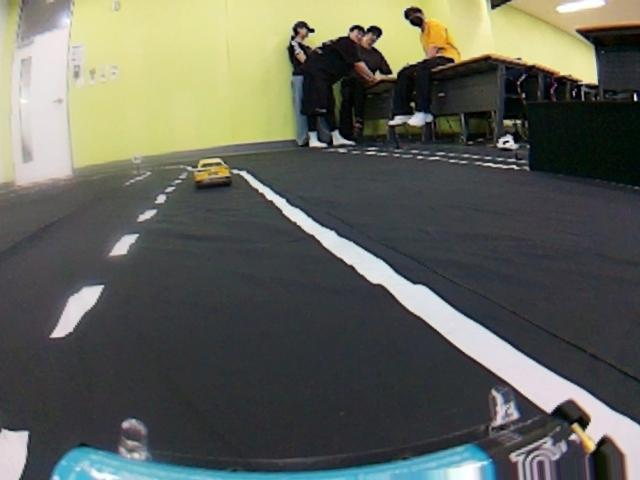car: (186, 151, 232, 187)
straight: (5, 206, 640, 476)
